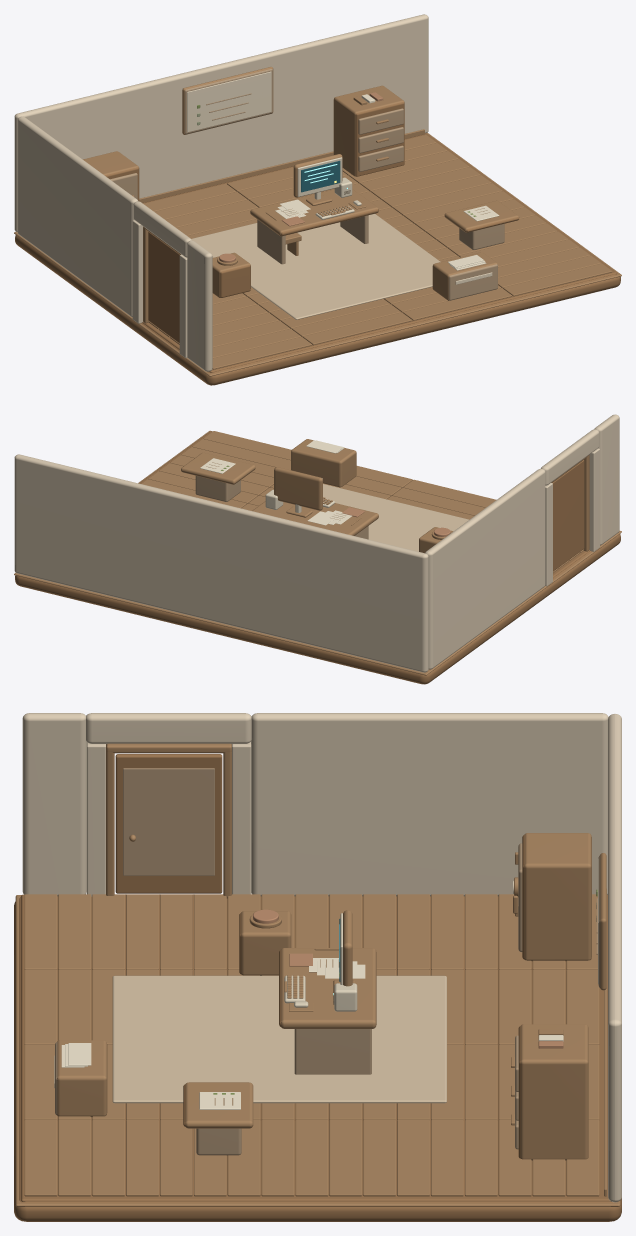
File: qi07-room.glb
3 views of the same model, one above another, from view 1: azimuth 30°, elevation 25°; view 2: azimuth 150°, elevation 25°; view 3: azimuth 270°, elevation 25° (orthographic). The views are drawn at different scales.
Parts seen in each view (by area): view 1: Back wall, Left wall rear, Central woven rug, Cutaway foundation, Board face, Left wall front pier, Permission door, Skills file cabinet copper shell, Grid floor, Copper foundation rim, Central desk copper shell, Door lintel (+52 smaller); view 2: Back wall, Left wall rear, Cutaway foundation, Central woven rug, Permission door, Left wall front pier, Document intake copper shell, Copper foundation rim, PC monitor honey oak casing, Central desk copper shell, Door lintel, Helper work surface copper shell (+16 smaller); view 3: Left wall rear, Central woven rug, Cutaway foundation, Left wall front pier, Grid floor, Door inset panel, Skills file cabinet copper shell, Instruction safe copper shell, Back wall, Permission door, Door lintel, Central desk copper shell (+62 smaller).
Part boxes in pixels (bbox=[...]): Back wall: bbox=[14, 14, 428, 232]; Left wall rear: bbox=[17, 116, 137, 317]; Central woven rug: bbox=[191, 214, 440, 319]; Cutaway foundation: bbox=[15, 235, 620, 385]; Board face: bbox=[187, 71, 271, 132]; Left wall front pier: bbox=[187, 240, 212, 371]; Permission door: bbox=[148, 232, 179, 342]; Skills file cabinet copper shell: bbox=[333, 85, 404, 176]; Grid floor: bbox=[142, 133, 617, 372]; Copper foundation rim: bbox=[14, 133, 621, 376]; Central desk copper shell: bbox=[250, 189, 378, 236]; Door lintel: bbox=[133, 201, 191, 257]; Back wall: bbox=[14, 454, 428, 672]; Left wall rear: bbox=[425, 468, 545, 669]; Cutaway foundation: bbox=[15, 534, 620, 684]; Central woven rug: bbox=[323, 484, 468, 551]; Permission door: bbox=[552, 460, 584, 571]; Left wall front pier: bbox=[594, 414, 619, 545]; Document intake copper shell: bbox=[291, 439, 356, 487]; Copper foundation rim: bbox=[14, 430, 621, 675]; PC monitor honey oak casing: bbox=[274, 467, 322, 510]; Central desk copper shell: bbox=[252, 501, 378, 535]; Door lintel: bbox=[541, 429, 599, 485]; Helper work surface copper shell: bbox=[181, 452, 255, 484]; Left wall rear: bbox=[251, 713, 608, 896]; Central woven rug: bbox=[112, 975, 446, 1103]; Cutaway foundation: bbox=[14, 897, 621, 1221]; Left wall front pier: bbox=[22, 713, 86, 896]; Grid floor: bbox=[21, 894, 611, 1201]; Door inset panel: bbox=[123, 768, 214, 875]; Skills file cabinet copper shell: bbox=[520, 1024, 588, 1160]; Instruction safe copper shell: bbox=[524, 833, 591, 961]; Back wall: bbox=[608, 714, 621, 1202]; Permission door: bbox=[115, 754, 222, 893]; Door lintel: bbox=[86, 713, 251, 743]; Central desk copper shell: bbox=[281, 948, 376, 1028].
Size of the model in its own units: 11.9 by 3.61 by 9.8.
